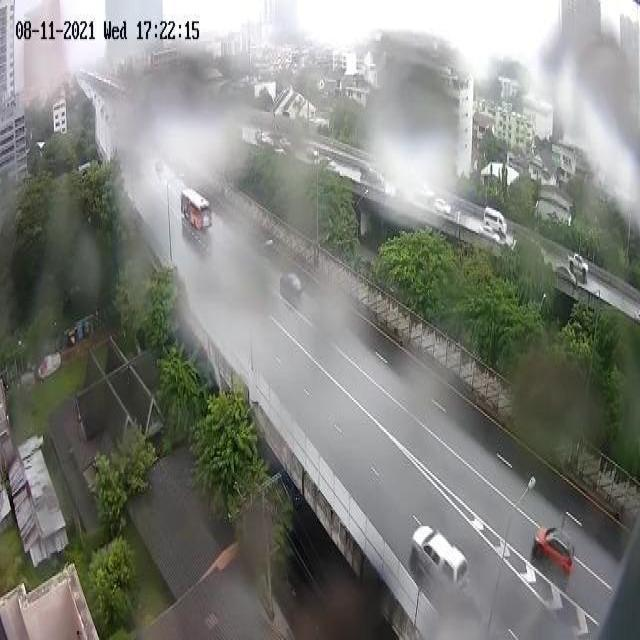Bus: (180, 186, 213, 236)
Car: (410, 524, 470, 603), (533, 523, 576, 573), (282, 269, 304, 305)
